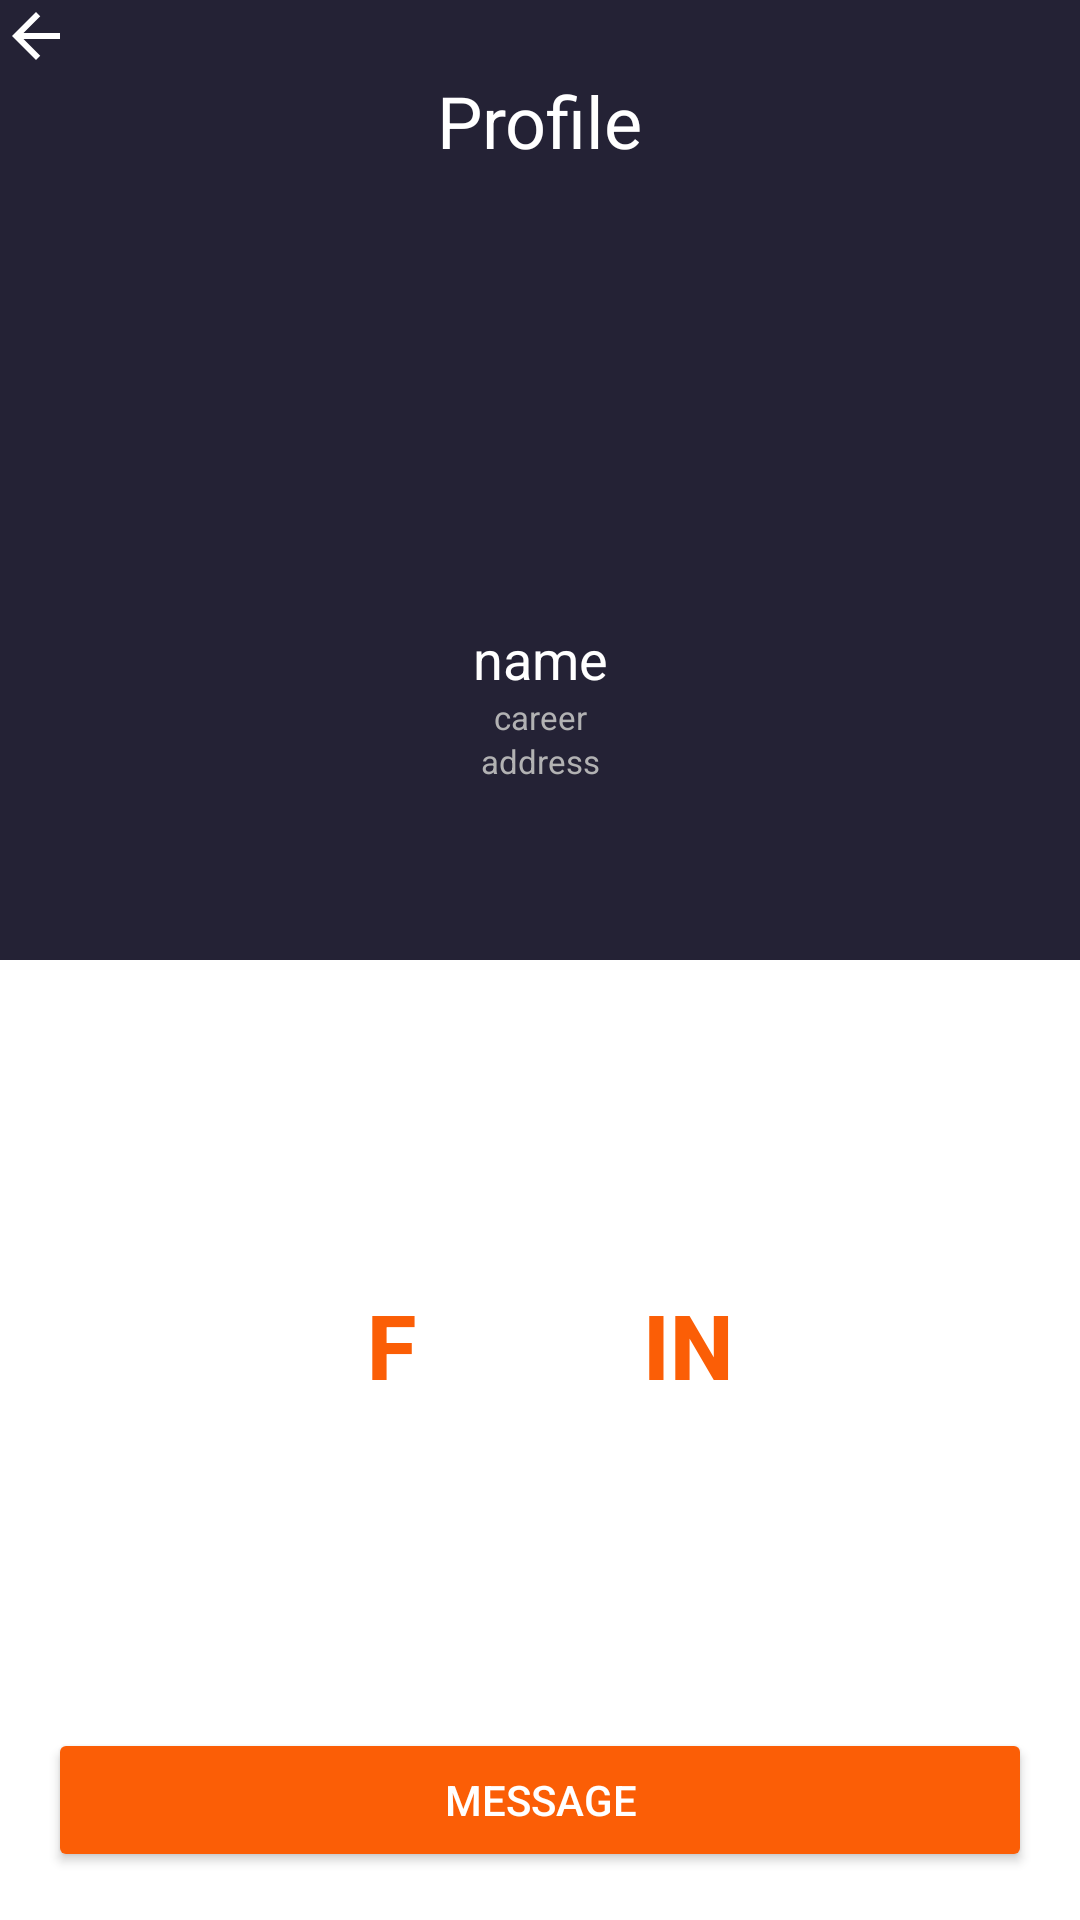

Screen size 1080px x 1920px. Icon name, then its box in pixels as (x1, y1, x2, y2):
back arrow: (12, 12, 60, 60)
